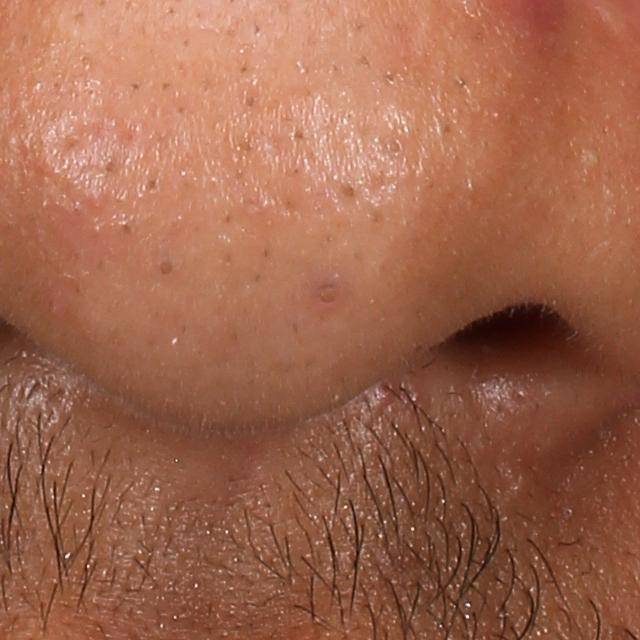comedo: (314, 280, 344, 308), (158, 259, 177, 281), (337, 181, 357, 201)
